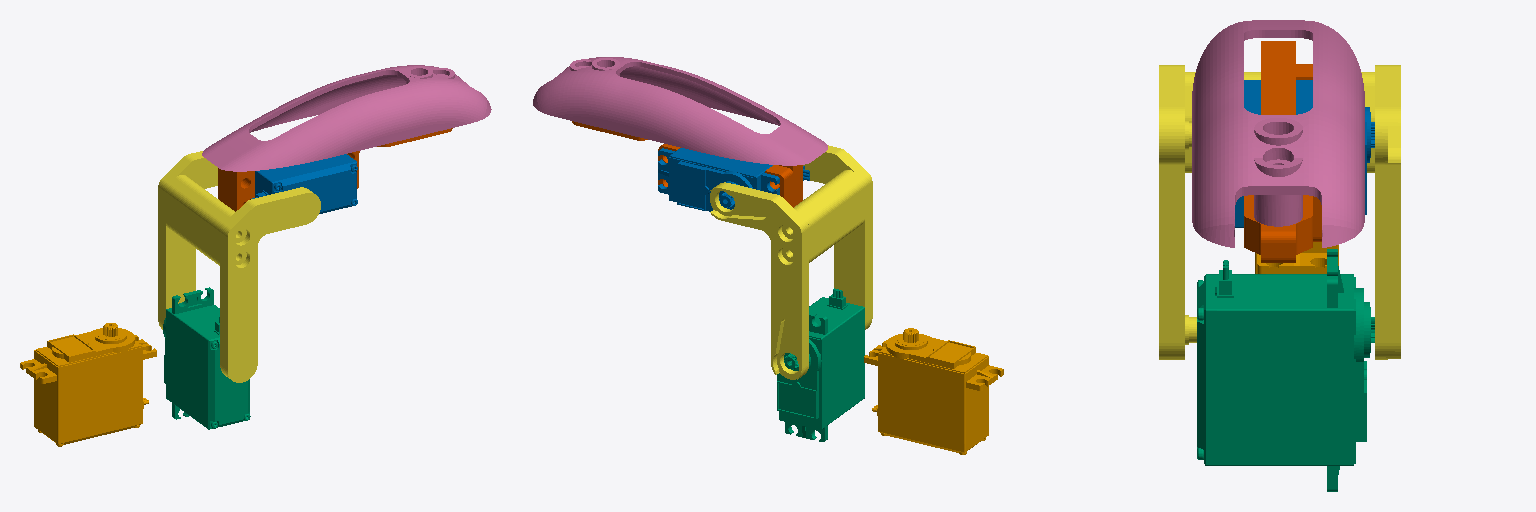
URDF robot description (leg_right):
<?xml version='1.0' encoding='utf-8'?>
<robot name="leg_right">
    <link name="base_link">
        <inertial>
            <origin xyz="0.020178447972789563 0.009750002219071822 -0.008216241413562224" rpy="0.0 0.0 0.0" />
            <mass value="0.20641808912389753" />
            <inertia ixx="2.7773631636875534e-05" iyy="5.0476740936021815e-05" izz="3.601102430698472e-05" ixy="3.0326974858794174e-12" iyz="-6.6531359313112565e-12" ixz="-7.930775065286786e-07" />
        </inertial>
        <visual name="base_link_visual">
            <origin xyz="0.0 0.0 0.0" rpy="0.0 0.0 0.0" />
            <geometry>
                <mesh filename="meshes/MG996.stl" scale="0.001 0.001 0.001" />
            </geometry>
        </visual>
        <collision name="base_link_collision">
            <origin xyz="0.0 0.0 0.0" rpy="0.0 0.0 0.0" />
            <geometry>
                <mesh filename="meshes/MG996.stl" scale="0.001 0.001 0.001" />
            </geometry>
        </collision>
    </link>
    <link name="coxa">
        <inertial>
            <origin xyz="0.025372840494156005 -0.0001517412308491717 -0.02487963924889388" rpy="0.0 -0.0 0.0" />
            <mass value="0.07898637744159479" />
            <inertia ixx="4.963139741329647e-05" iyy="7.128210636066343e-05" izz="2.4265877776945353e-05" ixy="2.1127014631552984e-07" iyz="3.990735838610307e-08" ixz="-5.949787137622525e-06" />
        </inertial>
        <visual name="coxa_visual">
            <origin xyz="0.053000000000000005 -2.220446049250313e-18 0.001000000000000003" rpy="0.0 -0.0 1.5707963267948966" />
            <geometry>
                <mesh filename="meshes/coxa_right.stl" scale="0.001 0.001 0.001" />
            </geometry>
        </visual>
        <collision name="coxa_collision">
            <origin xyz="0.053000000000000005 -2.220446049250313e-18 0.001000000000000003" rpy="0.0 -0.0 1.5707963267948966" />
            <geometry>
                <mesh filename="meshes/coxa_right.stl" scale="0.001 0.001 0.001" />
            </geometry>
        </collision>
    </link>
    <link name="MG996f">
        <inertial>
            <origin xyz="-0.024521552027210437 -0.008216241413562218 0.005249997780928162" rpy="0.0 -0.0 0.0" />
            <mass value="0.20641808912389753" />
            <inertia ixx="2.7773631636875433e-05" iyy="3.6011024306984666e-05" izz="5.047674093602177e-05" ixy="-7.930775065286955e-07" iyz="6.6531359143705976e-12" ixz="-3.0326975197607353e-12" />
        </inertial>
        <visual name="MG996f_visual">
            <origin xyz="-0.04470000000000001 6.661338147750939e-18 0.014999999999999982" rpy="-1.5707963267948968 -0.0 -3.749399456654644e-33" />
            <geometry>
                <mesh filename="meshes/MG996.stl" scale="0.001 0.001 0.001" />
            </geometry>
        </visual>
        <collision name="MG996f_collision">
            <origin xyz="-0.04470000000000001 6.661338147750939e-18 0.014999999999999982" rpy="-1.5707963267948968 -0.0 -3.749399456654644e-33" />
            <geometry>
                <mesh filename="meshes/MG996.stl" scale="0.001 0.001 0.001" />
            </geometry>
        </collision>
    </link>
    <link name="femur">
        <inertial>
            <origin xyz="0.003124784594725227 -0.02288109973213504 0.045527607166960714" rpy="0.0 -0.0 0.0" />
            <mass value="0.2061355014221324" />
            <inertia ixx="0.00015591895758032944" iyy="8.656809797940234e-05" izz="0.000100988308472931" ixy="3.823774703431885e-06" iyz="-4.634784730535981e-06" ixz="-1.1513127818724243e-05" />
        </inertial>
        <visual name="femur_visual">
            <origin xyz="1.7763568394002505e-17 -0.04300000000000001 -2.7755575615628914e-19" rpy="1.5707963267948966 -0.6108652381980154 -6.123233995736765e-17" />
            <geometry>
                <mesh filename="meshes/femur_right.stl" scale="0.001 0.001 0.001" />
            </geometry>
        </visual>
        <collision name="femur_collision">
            <origin xyz="1.7763568394002505e-17 -0.04300000000000001 -2.7755575615628914e-19" rpy="1.5707963267948966 -0.6108652381980154 -6.123233995736765e-17" />
            <geometry>
                <mesh filename="meshes/femur_right.stl" scale="0.001 0.001 0.001" />
            </geometry>
        </collision>
    </link>
    <link name="MG996t">
        <inertial>
            <origin xyz="0.010071550349059369 0.019266241413562223 2.6883626258467075e-09" rpy="0.0 -0.0 0.0" />
            <mass value="0.20641808912389753" />
            <inertia ixx="2.7773631636875758e-05" iyy="3.601102430698423e-05" izz="5.047674093602199e-05" ixy="-7.930775065286921e-07" iyz="-6.653135927923125e-12" ixz="3.032697573970844e-12" />
        </inertial>
        <visual name="MG996t_visual">
            <origin xyz="0.03024999832184893 0.01105 0.009750004907434447" rpy="-1.5707963267948966 -2.1632341619892146e-16 -3.141592653589793" />
            <geometry>
                <mesh filename="meshes/MG996.stl" scale="0.001 0.001 0.001" />
            </geometry>
        </visual>
        <collision name="MG996t_collision">
            <origin xyz="0.03024999832184893 0.01105 0.009750004907434447" rpy="-1.5707963267948966 -2.1632341619892146e-16 -3.141592653589793" />
            <geometry>
                <mesh filename="meshes/MG996.stl" scale="0.001 0.001 0.001" />
            </geometry>
        </collision>
    </link>
    <link name="tibia">
        <inertial>
            <origin xyz="0.04649343100105627 -0.010005948932875994 0.01322021406519859" rpy="0.0 -0.0 0.0" />
            <mass value="0.09285304614043148" />
            <inertia ixx="6.422753246891199e-06" iyy="0.00010153034858819722" izz="9.868903018824676e-05" ixy="2.6666870421129303e-06" iyz="9.576742803426926e-07" ixz="-8.30271171873133e-06" />
        </inertial>
        <visual name="tibia_visual">
            <origin xyz="0.0442999983218489 -0.007300000000000009 -0.0047500049074344465" rpy="1.5707963267948966 -1.5707963267948963 0" />
            <geometry>
                <mesh filename="meshes/tibia_right.stl" scale="0.001 0.001 0.001" />
            </geometry>
        </visual>
        <collision name="tibia_collision">
            <origin xyz="0.0442999983218489 -0.007300000000000009 -0.0047500049074344465" rpy="1.5707963267948966 -1.5707963267948963 0" />
            <geometry>
                <mesh filename="meshes/tibia_right.stl" scale="0.001 0.001 0.001" />
            </geometry>
        </collision>
    </link>
    <link name="shield">
        <inertial>
            <origin xyz="0.007956859434655437 3.2144871102146587e-07 0.03213715191944113" rpy="0.0 -0.0 0.0" />
            <mass value="0.09400422482344938" />
            <inertia ixx="0.00011235877990886396" iyy="9.902587291231446e-05" izz="1.7880722808844853e-05" ixy="4.0860511540719057e-10" iyz="1.6353321901664813e-10" ixz="3.853286382860411e-06" />
        </inertial>
        <visual name="shield_visual">
            <origin xyz="-4.907434423273571e-09 -0.01999999999999999 -0.018000000805759912" rpy="-3.141592653589793 -1.5707963267948961 0" />
            <geometry>
                <mesh filename="meshes/shield.stl" scale="0.001 0.001 0.001" />
            </geometry>
        </visual>
        <collision name="shield_collision">
            <origin xyz="-4.907434423273571e-09 -0.01999999999999999 -0.018000000805759912" rpy="-3.141592653589793 -1.5707963267948961 0" />
            <geometry>
                <mesh filename="meshes/shield.stl" scale="0.001 0.001 0.001" />
            </geometry>
        </collision>
    </link>
    <joint name="coxa_joint" type="revolute">
        <origin xyz="0.03025 0.00975 0.01005" rpy="0.0 -0.0 0.0" />
        <parent link="base_link" />
        <child link="coxa" />
        <axis xyz="0.0 0.0 1.0" />
        <limit lower="-1.570796" upper="1.570796" effort="1000000" velocity="1000000" />
    </joint>
    <joint name="coxa_MG996f_fixed" type="fixed">
        <origin xyz="0.048249999999999994 0.007000000000000001 0.0027500000000000016" rpy="-0.0 -1.5707963267948966 0" />
        <parent link="coxa" />
        <child link="MG996f" />
    </joint>
    <joint name="femur_joint" type="revolute">
        <origin xyz="-0.014450000000000001 0.010050000000000002 0.005249999999999995" rpy="-0.0 1.5707963267948966 0" />
        <parent link="MG996f" />
        <child link="femur" />
        <axis xyz="0.0 1.0 0.0" />
        <limit lower="0" upper="2.356194" effort="1000000" velocity="1000000" />
    </joint>
    <joint name="tibia_joint" type="revolute">
        <origin xyz="0.02958327999999999 0.0009999999999999966 0.06344155" rpy="-3.141592653589793 8.791013934755433e-33 0.0" />
        <parent link="femur" />
        <child link="MG996t" />
        <axis xyz="0.0 -1.0 0.0" />
        <limit lower="0" upper="1.570796" effort="1000000" velocity="1000000" />
    </joint>
    <joint name="MG996t_tibia_fixed" type="fixed">
        <origin xyz="-0.014449999999999985 0.011049999999999997 0.005249999999999995" rpy="3.141592653589793 8.791013934755431e-33 0.0" />
        <parent link="MG996t" />
        <child link="tibia" />
    </joint>
    <joint name="tibia_shield_fixed" type="fixed">
        <origin xyz="0.09324641 -0.0113 0.02125" rpy="-0.0 -1.5707963267948966 0" />
        <parent link="tibia" />
        <child link="shield" />
    </joint>
</robot>

--- Render facts (derived) ---
3 views of the same robot in one strip: view 1: azimuth 30°, elevation 25°; view 2: azimuth 150°, elevation 25°; view 3: azimuth 270°, elevation 25° (orthographic).
Model leg_right with 7 links and 6 joints (3 revolute, 3 fixed), rooted at base_link, posed all joints at 0.
Visible links, largest first — view 1: shield, femur, base_link, MG996f, MG996t, tibia; view 2: shield, femur, base_link, MG996f, MG996t, tibia; view 3: MG996f, shield, femur, tibia, MG996t, base_link.
Boxes of the visible links, box(x1,y1,x2,y2) form: shield: box(202, 65, 491, 171); femur: box(158, 151, 320, 382); base_link: box(20, 323, 156, 446); MG996f: box(163, 287, 250, 429); MG996t: box(250, 154, 357, 213); tibia: box(218, 128, 452, 211); shield: box(533, 57, 827, 165); femur: box(710, 145, 872, 379); base_link: box(864, 328, 1003, 454); MG996f: box(777, 288, 864, 441); MG996t: box(658, 148, 809, 211); tibia: box(572, 121, 802, 207); MG996f: box(1197, 249, 1374, 491); shield: box(1192, 20, 1364, 247); femur: box(1159, 65, 1400, 359); tibia: box(1244, 41, 1321, 262); MG996t: box(1235, 80, 1374, 227); base_link: box(1255, 242, 1338, 273).
Size in the robot's own frame: 0.206 by 0.056 by 0.1346 metres.
6 mesh visuals loaded from 5 distinct referenced files (4 binary STL); not drawn: 1 (reference not matched to a file when rendering).